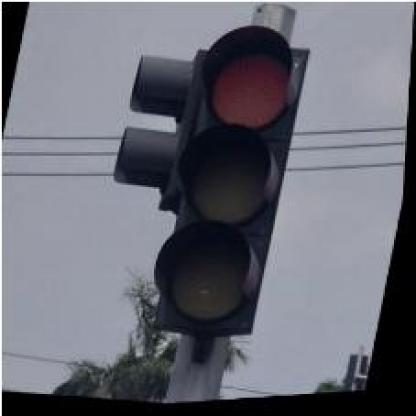red: (152, 19, 317, 348)
